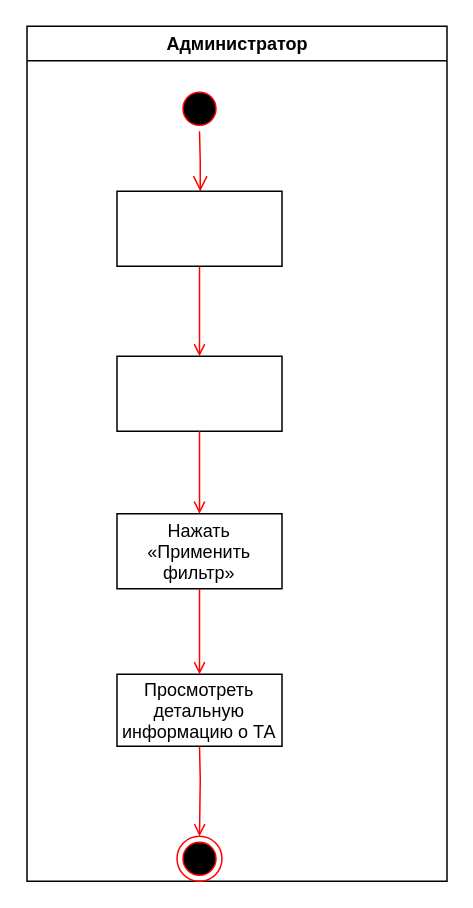
Some shapes in this 473 by 908 pixel diagram are drawn without their labels. Each missing label, with the centre of its shape:
Открыть модуль «Монитор ТА»: the point at 199,228
Установить фильтры: the point at 199,393
